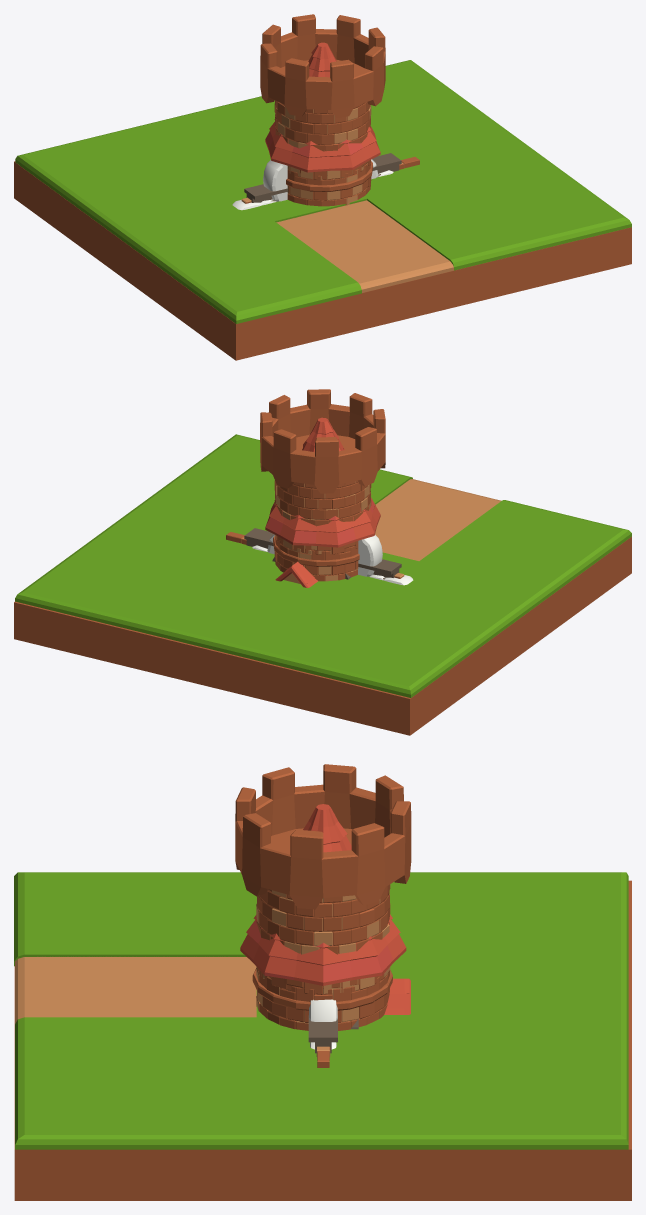
File: Fairy_Tale_Castle_Grounds.fbx
The picture shows the model from 3 angles, top to bottom: view 1: azimuth 30°, elevation 25°; view 2: azimuth 150°, elevation 25°; view 3: azimuth 270°, elevation 25°; orthographic projection. The views are drawn at different scales.
Visible parts, largest first — view 1: FTCG_plane, FTCG_Tower1, FTCG_towerpart E, FTCG_Cloud B, FTCG_wall B; view 2: FTCG_plane, FTCG_Tower1, FTCG_towerpart E, FTCG_Cloud B, FTCG_wall B, FTCG_House A; view 3: FTCG_plane, FTCG_Tower1, FTCG_towerpart E, FTCG_House A, FTCG_wall B, FTCG_Cloud A.
Part boxes in pixels (x1=…): FTCG_plane: x1=14, y1=60, x2=631, y2=360; FTCG_Tower1: x1=260, y1=14, x2=385, y2=205; FTCG_towerpart E: x1=265, y1=42, x2=380, y2=206; FTCG_Cloud B: x1=232, y1=160, x2=393, y2=210; FTCG_wall B: x1=244, y1=153, x2=401, y2=202; FTCG_plane: x1=14, y1=434, x2=631, y2=735; FTCG_Tower1: x1=260, y1=389, x2=385, y2=575; FTCG_towerpart E: x1=265, y1=417, x2=380, y2=581; FTCG_Cloud B: x1=252, y1=535, x2=413, y2=585; FTCG_wall B: x1=244, y1=528, x2=401, y2=579; FTCG_House A: x1=275, y1=561, x2=317, y2=587; FTCG_plane: x1=14, y1=872, x2=631, y2=1200; FTCG_Tower1: x1=235, y1=764, x2=411, y2=1030; FTCG_towerpart E: x1=240, y1=804, x2=406, y2=1023; FTCG_House A: x1=384, y1=978, x2=410, y2=1014; FTCG_wall B: x1=308, y1=1016, x2=337, y2=1053; FTCG_Cloud A: x1=309, y1=999, x2=337, y2=1021.
Bounding box in the file's own units: 707 × 344 × 687.
1 material, 1 textured.
